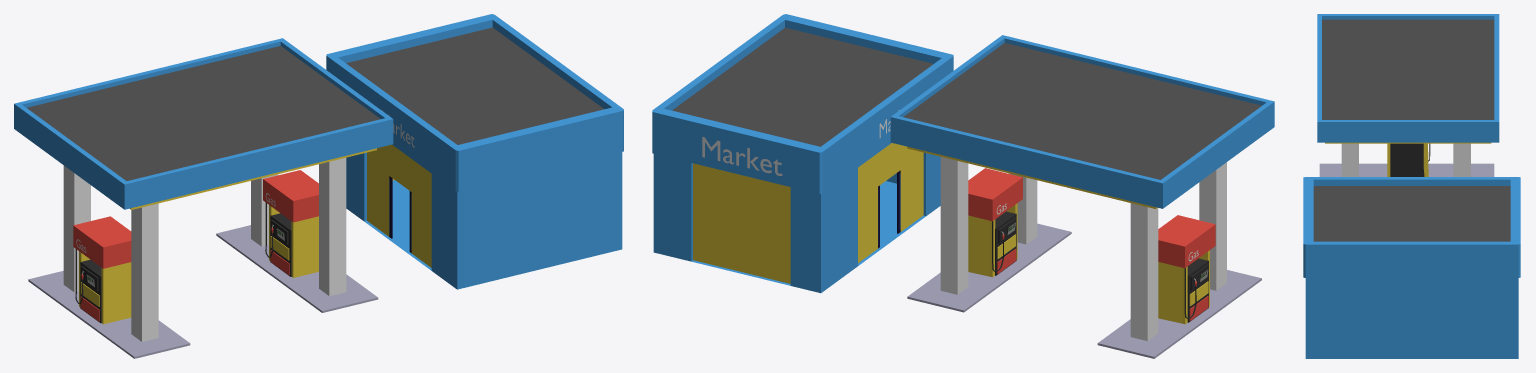
The model's file is Building_GasStation.fbx.
3 renders of one model, left to right at view 1: azimuth 30°, elevation 25°; view 2: azimuth 150°, elevation 25°; view 3: azimuth 270°, elevation 25°, orthographic. The views are drawn at different scales.
Visible parts, largest first — view 1: Cube.001; view 2: Cube.001, Text.001; view 3: Cube.001.
Boxes of the visible parts, x1=… form: Cube.001: x1=14, y1=14, x2=623, y2=358; Cube.001: x1=652, y1=14, x2=1274, y2=358; Text.001: x1=702, y1=137, x2=782, y2=175; Cube.001: x1=1303, y1=14, x2=1520, y2=358.
Bounding box in the file's own units: 1761 × 613 × 821.
